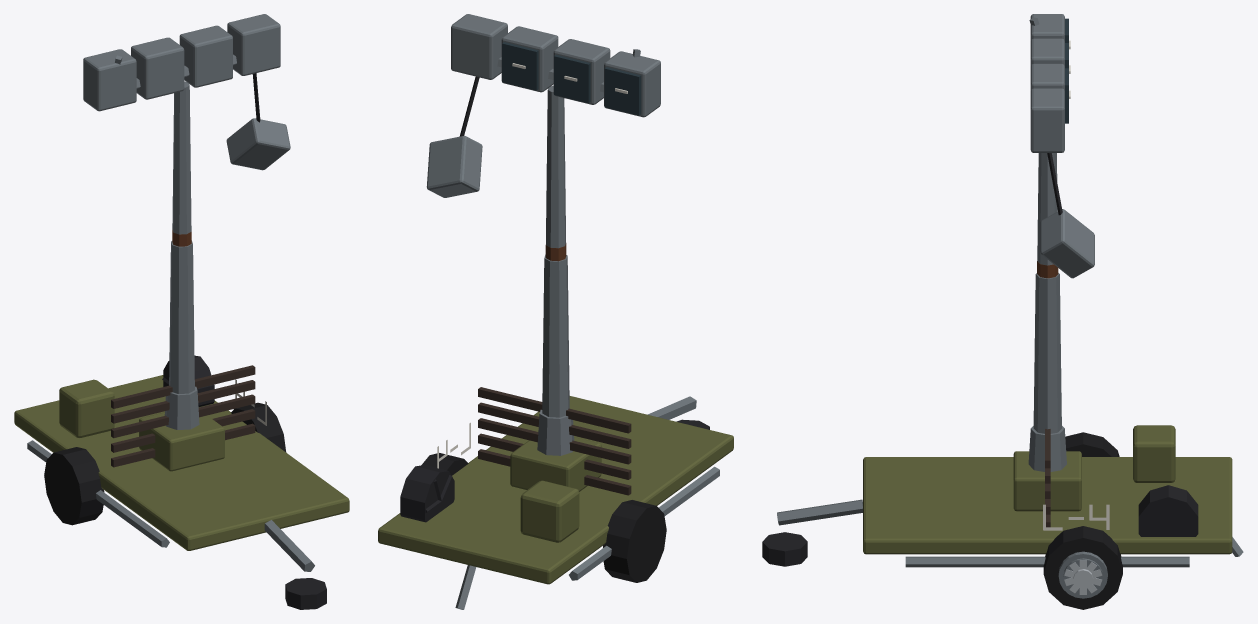
Rendered from flood_light.glb.
3 views of the same model, side by side, from view 1: azimuth 30°, elevation 25°; view 2: azimuth 150°, elevation 25°; view 3: azimuth 270°, elevation 25° (orthographic). The views are drawn at different scales.
Visible parts, largest first — view 1: flood_light; view 2: flood_light; view 3: flood_light.
Boxes of the visible parts, x1,y1,x2,y2 form: flood_light: (14, 14, 349, 609); flood_light: (378, 14, 733, 609); flood_light: (762, 14, 1243, 609).
Size of what is drawn, in the model's own units: 1.85 by 3.91 by 3.39.
3 materials, 3 textured.
